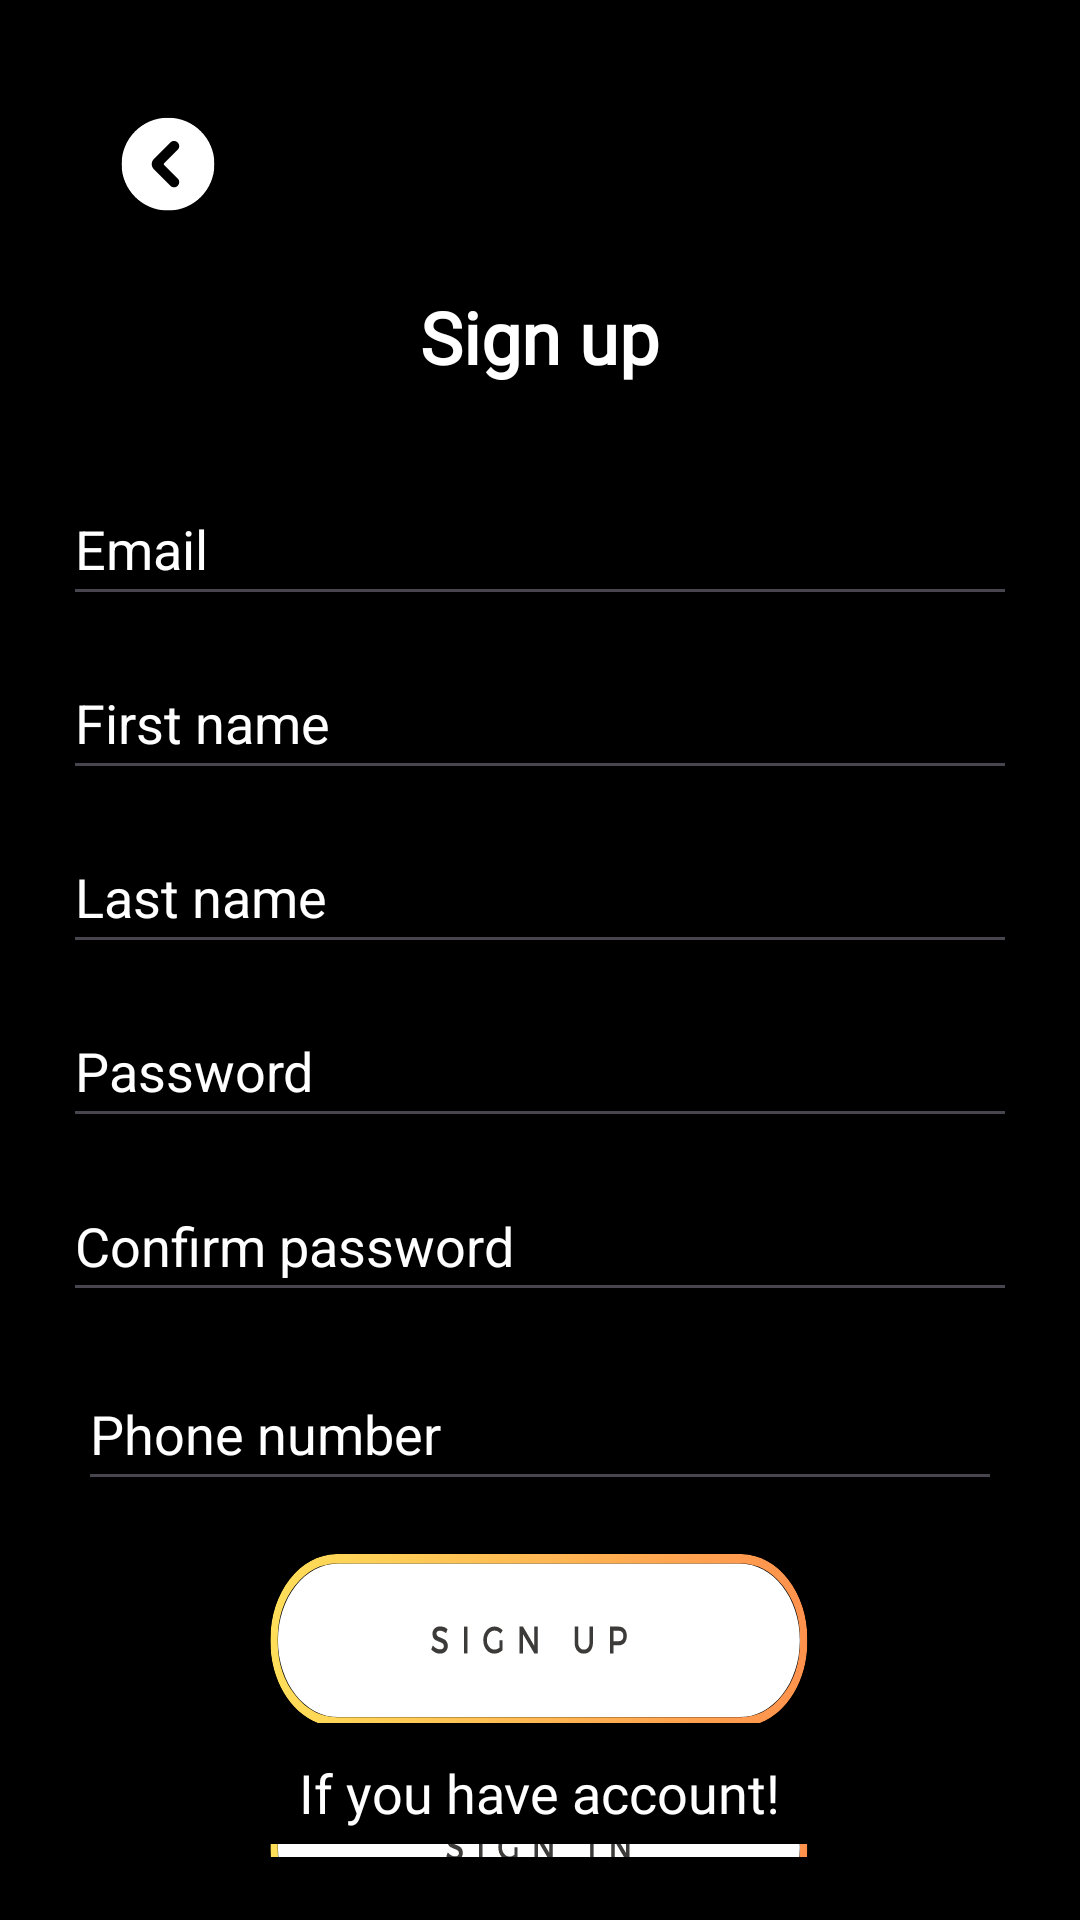

Screen size 1080 × 1920. Icon name, then its box in pixels as bbox(x1, y1, x2, y2):
Back button: bbox(121, 118, 215, 211)
